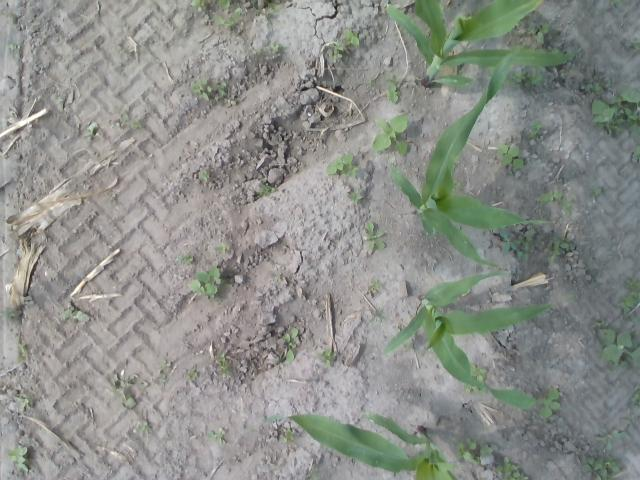Maize: (386, 50, 554, 274), (384, 270, 572, 409), (382, 0, 582, 87), (244, 404, 462, 480)
Weeds: (587, 82, 640, 136), (596, 321, 640, 376), (374, 114, 408, 156), (499, 226, 536, 262), (456, 436, 494, 464), (188, 266, 222, 297), (512, 22, 548, 51), (579, 456, 620, 480), (537, 188, 572, 216), (110, 373, 136, 410), (502, 66, 542, 90), (593, 425, 628, 451), (326, 153, 360, 178), (536, 388, 562, 420), (190, 78, 227, 100), (464, 361, 488, 394), (495, 143, 525, 169), (277, 327, 298, 364), (496, 456, 528, 480), (620, 278, 640, 316), (364, 221, 386, 250), (547, 237, 571, 263), (7, 445, 29, 472), (250, 0, 278, 21), (384, 73, 402, 104), (214, 8, 242, 26), (116, 112, 142, 130), (316, 348, 337, 368), (207, 428, 227, 448), (215, 353, 233, 374), (61, 307, 86, 322), (256, 182, 276, 199), (158, 360, 171, 385), (326, 42, 344, 60), (256, 42, 282, 54), (347, 189, 364, 206), (343, 29, 360, 45), (528, 120, 542, 139), (82, 122, 99, 136), (176, 253, 194, 266), (16, 342, 28, 361), (189, 0, 208, 12), (15, 394, 30, 408), (587, 185, 601, 199), (136, 420, 150, 434), (630, 390, 640, 408), (627, 38, 640, 51), (282, 428, 294, 442), (4, 43, 20, 53), (198, 169, 210, 182), (633, 144, 640, 165), (0, 310, 16, 319), (368, 280, 382, 290), (374, 310, 384, 323), (214, 244, 228, 253), (622, 414, 636, 423), (186, 369, 198, 379), (450, 179, 460, 191), (218, 0, 232, 8), (309, 471, 319, 480), (225, 98, 237, 105), (610, 0, 624, 6), (55, 97, 66, 104), (550, 48, 560, 54)
